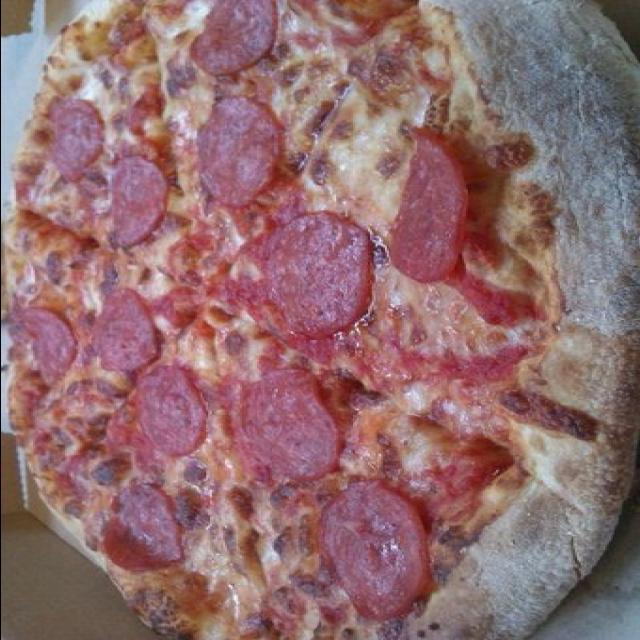pepperoni: (209, 482, 324, 620), (271, 213, 376, 339), (172, 128, 253, 283), (304, 368, 404, 481), (361, 98, 449, 208), (456, 485, 538, 571), (434, 366, 506, 458), (366, 0, 453, 75), (481, 288, 546, 370), (475, 156, 533, 246), (537, 100, 592, 179), (567, 308, 621, 378)
pizza: (0, 0, 640, 640)
